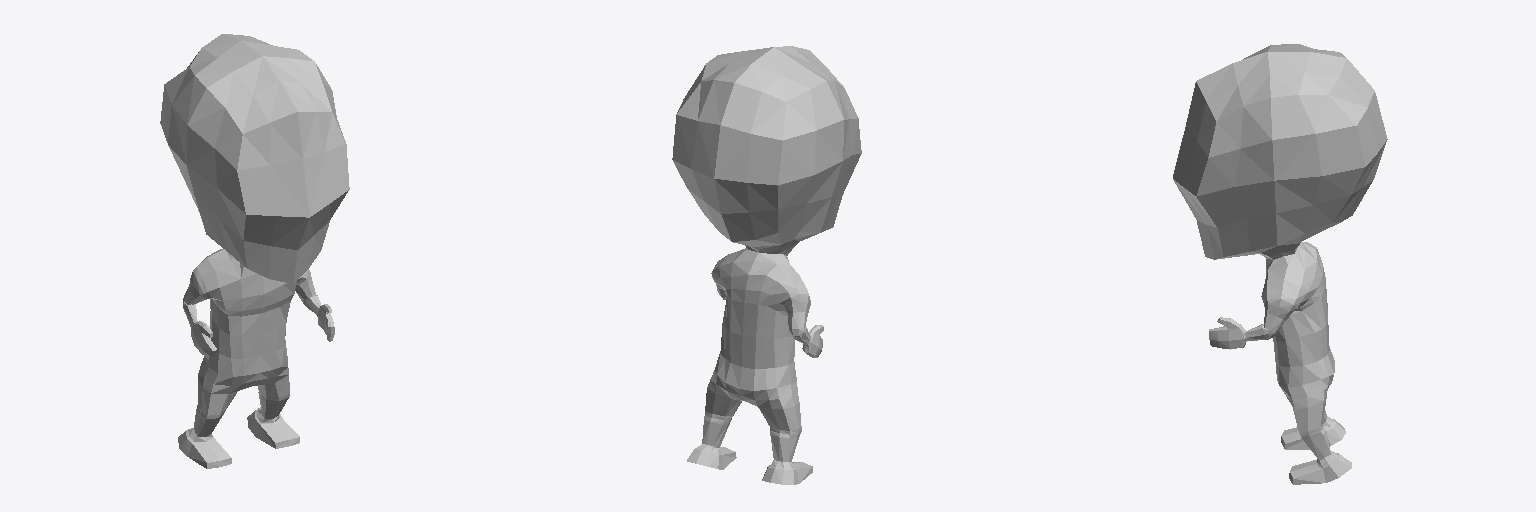
The model's file is char_000011.obj.
3 views of the same model, side by side, from view 1: azimuth 30°, elevation 25°; view 2: azimuth 150°, elevation 25°; view 3: azimuth 270°, elevation 25° (orthographic).
Visible parts, largest first — view 1: lp_guy_mesh_Cube; view 2: lp_guy_mesh_Cube; view 3: lp_guy_mesh_Cube.
Boxes of the visible parts, box(x1,y1,x2,y2) form: lp_guy_mesh_Cube: box(160, 34, 349, 468); lp_guy_mesh_Cube: box(672, 46, 861, 484); lp_guy_mesh_Cube: box(1173, 44, 1387, 484).
Bounding box in the file's own units: 0.7344 × 1.98 × 0.9444.